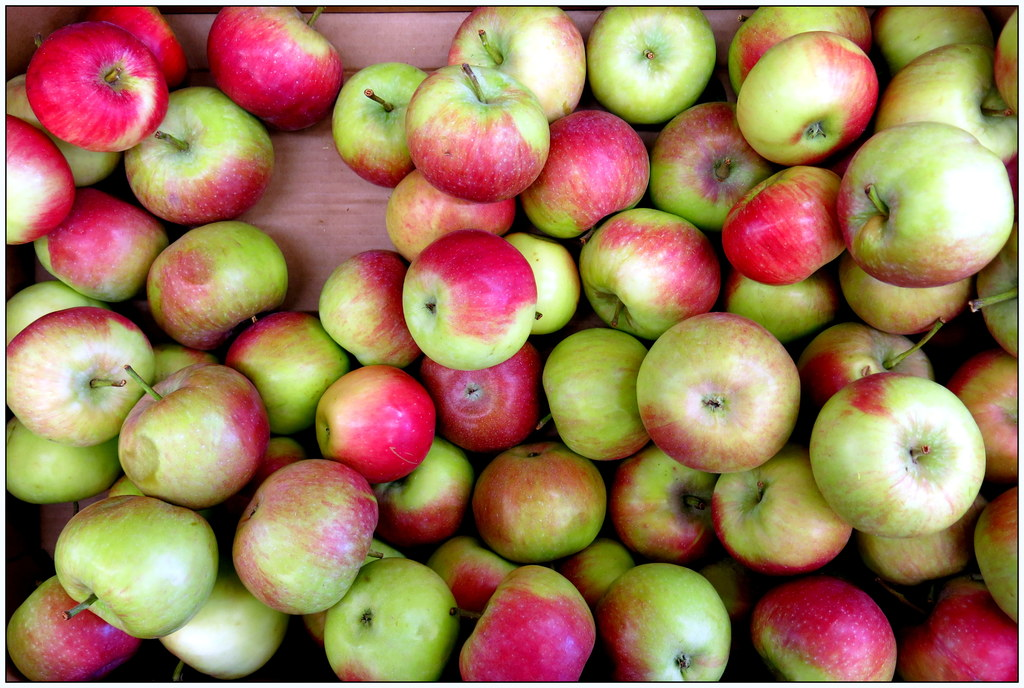Apple: (0, 0, 1018, 687), (596, 559, 730, 687), (469, 446, 599, 558)
